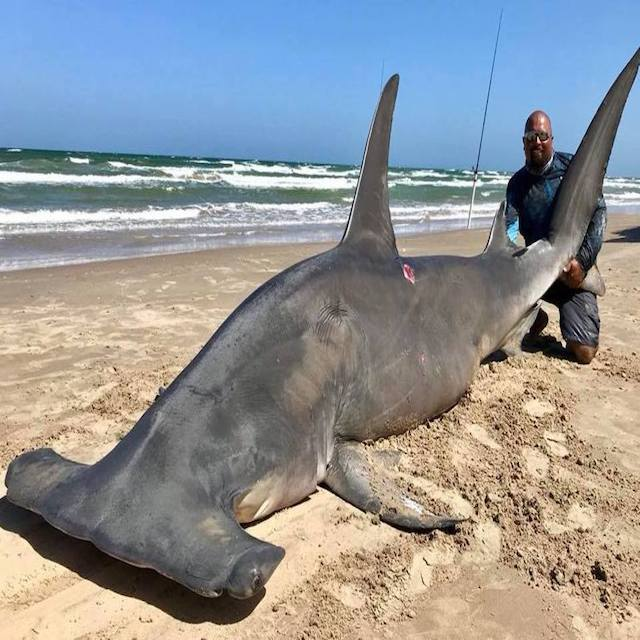hammerhead: (1, 285, 466, 616)
